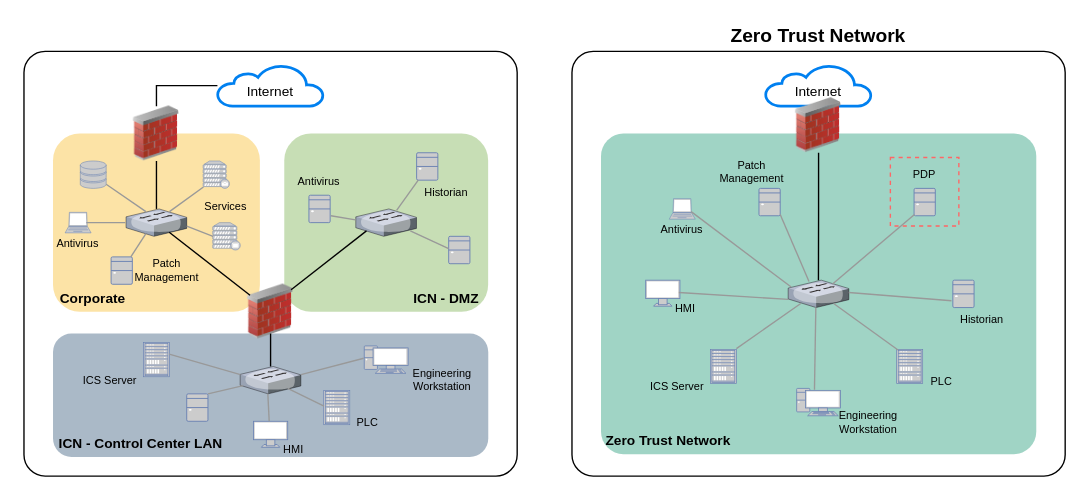
Some shapes in this 1089 by 500 pixel diagram are drawn without their labels. Here are the shapes that lost their labels. From the top down, the box of each, then its label:
(23, 50, 517, 476): Defense in Depth
(787, 279, 848, 307): PEP
